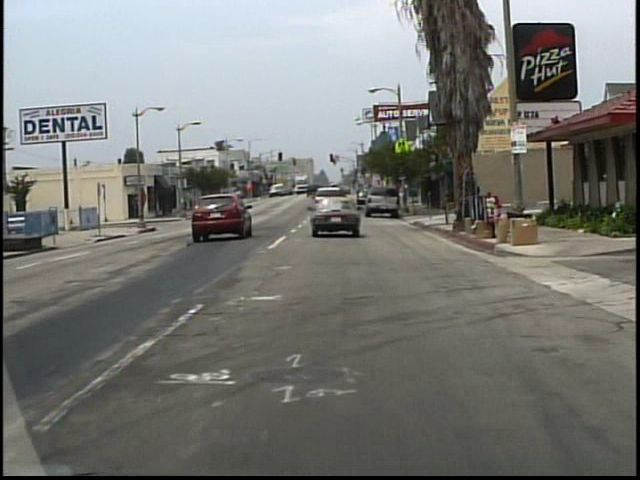person: (475, 180, 486, 213), (466, 183, 474, 208)
